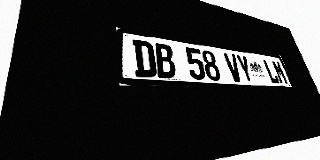5: (185, 47, 207, 80)
8: (200, 49, 222, 81)
B: (153, 42, 177, 79)
D: (132, 39, 157, 78)
L: (262, 59, 280, 84)
M: (271, 60, 289, 84)
V: (223, 53, 244, 82)
Y: (235, 55, 255, 83)
